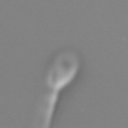normal: (39, 89, 69, 128)
